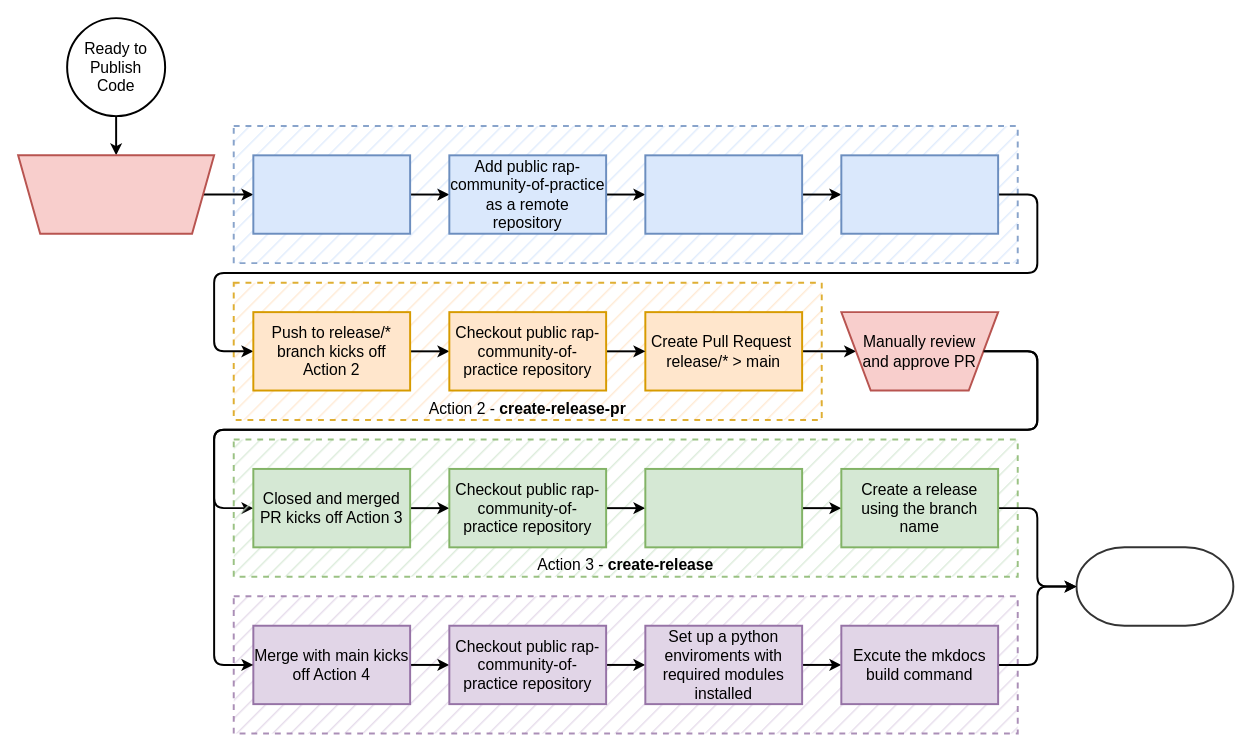
Some shapes in this 1250 by 751 pixel diagram are drawn without their labels. Here are the shapes that lost their labels. From the top down, the box of each, then its label:
(17, 154, 215, 234): Manually kick-off Action 1 by tagging the repository with a release
(252, 154, 411, 234): Checkout private RAP_CoP_dev repository
(232, 124, 1018, 264): Action 1 - push-release-to-public
(644, 154, 803, 234): Create a release branch e.g. release/v1.2.3
(840, 154, 999, 234): Push to both repositories
(644, 467, 803, 548): Read the release branch name
(1075, 546, 1234, 626): Code is Published
(232, 595, 1018, 734): Action 4 - pages-build-deployment
